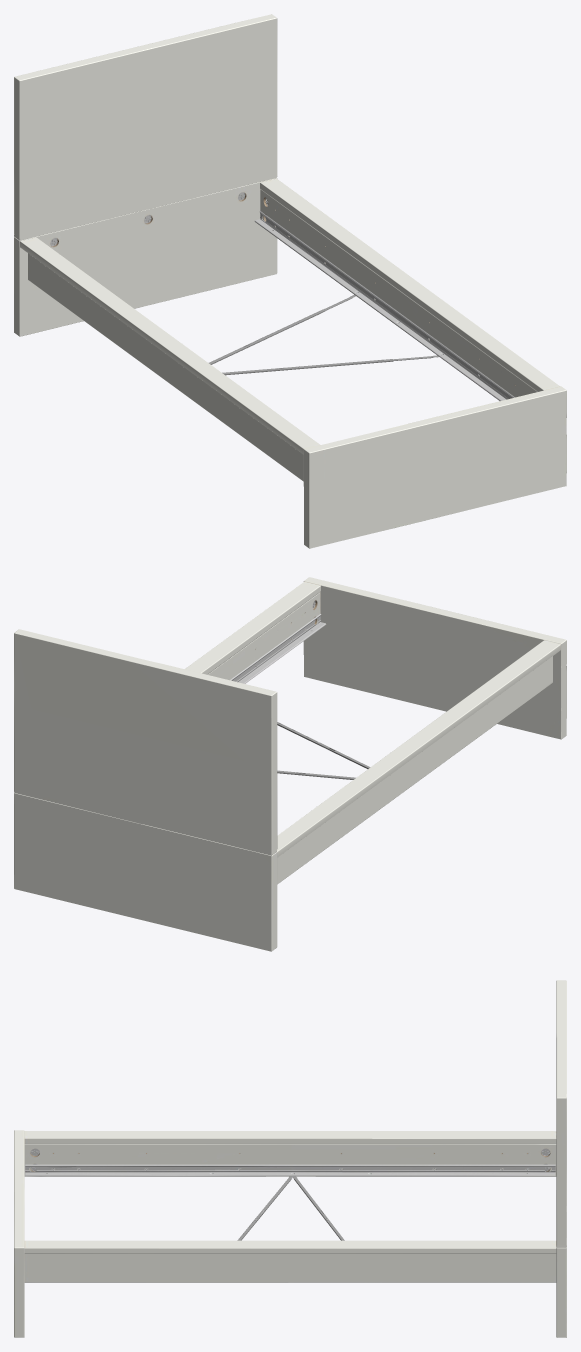
The picture shows the model from 3 angles, top to bottom: view 1: azimuth 30°, elevation 25°; view 2: azimuth 150°, elevation 25°; view 3: azimuth 270°, elevation 25°; orthographic projection. The views are drawn at different scales.
Parts seen in each view (by area): view 1: model; view 2: model; view 3: model.
Boxes of the visible parts, x1=… form: model: x1=14, y1=14, x2=566, y2=548; model: x1=14, y1=577, x2=566, y2=951; model: x1=14, y1=980, x2=566, y2=1337.
Bounding box in the file's own units: 1.05 × 1 × 2.09.
1 material, 1 textured.
